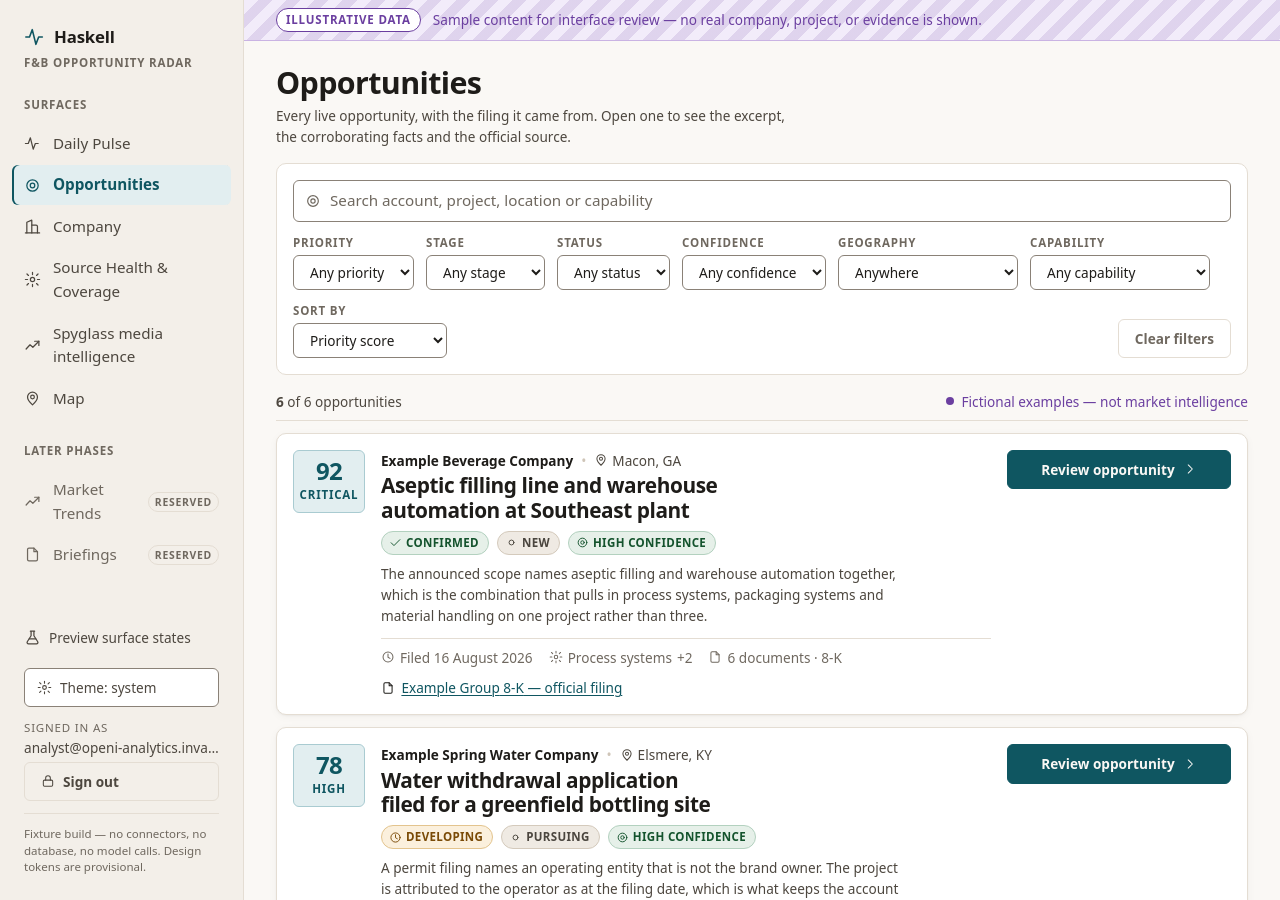
Test: confidence level still reads as a label, not a raw enum › renders title case in the drawer
Click the button "Review opportunity" in the row of "Macon, GA": x=1119, y=469 [1007, 450, 1231, 489]
(page scrolled)
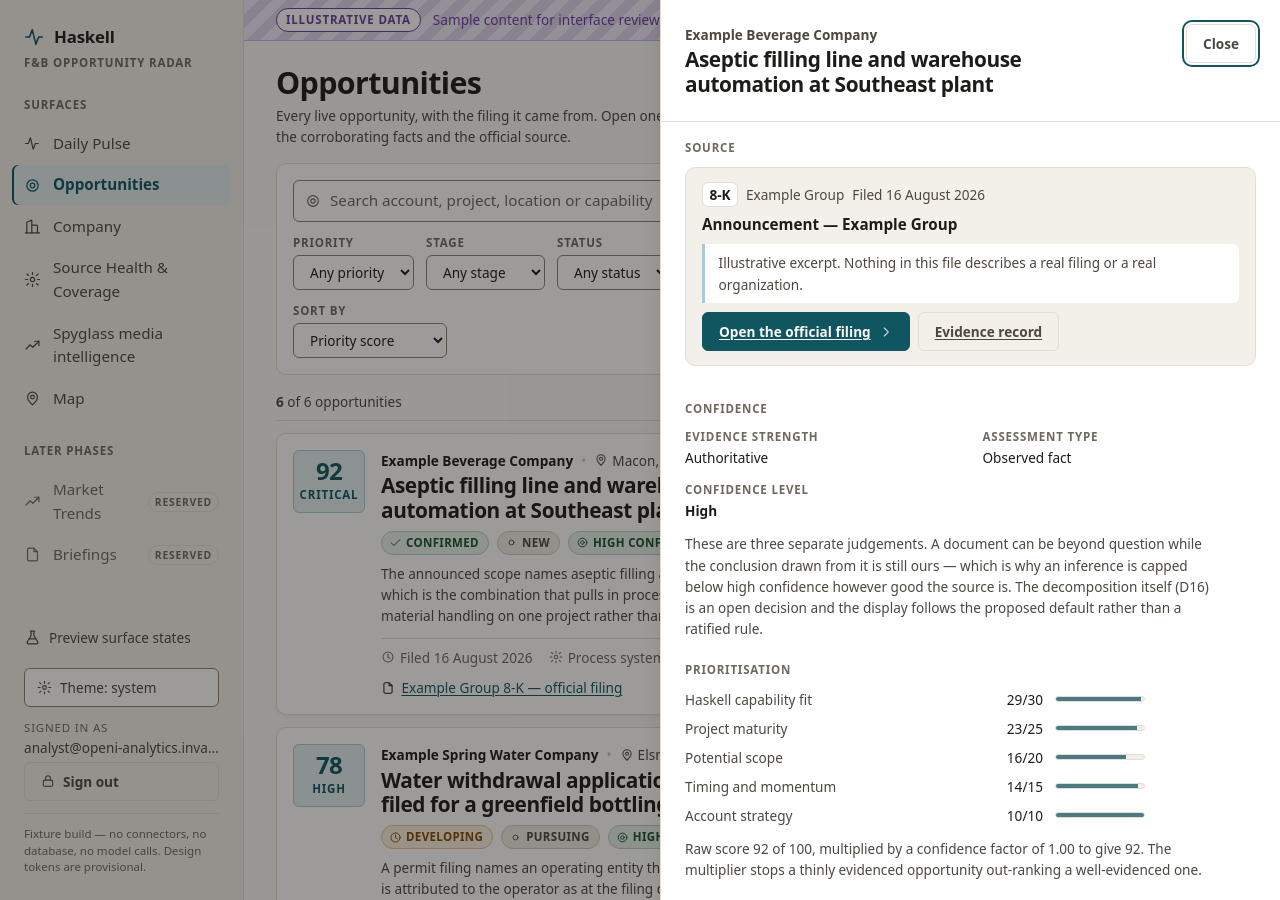
Expected: the text "High" is shown, [685, 501, 717, 520]
